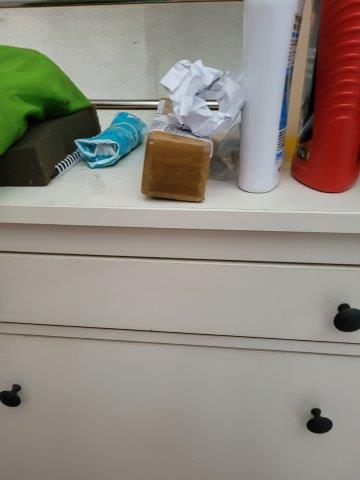kertas: (163, 62, 243, 135)
